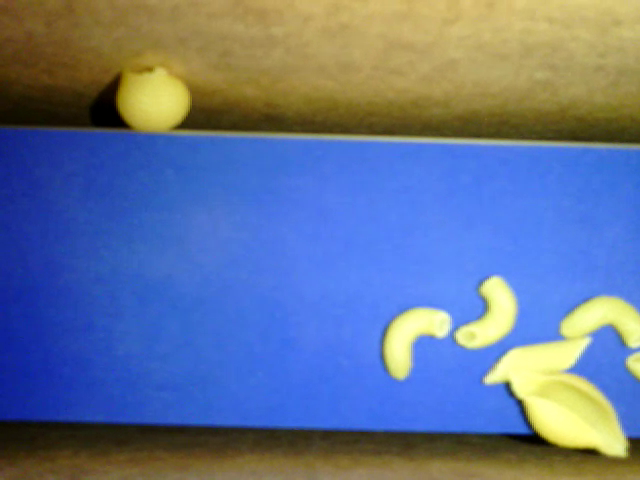elbow: (381, 307, 452, 381), (453, 275, 517, 349), (559, 296, 639, 349)
penne: (483, 336, 592, 385)
shell: (511, 372, 629, 458), (114, 66, 191, 133)
